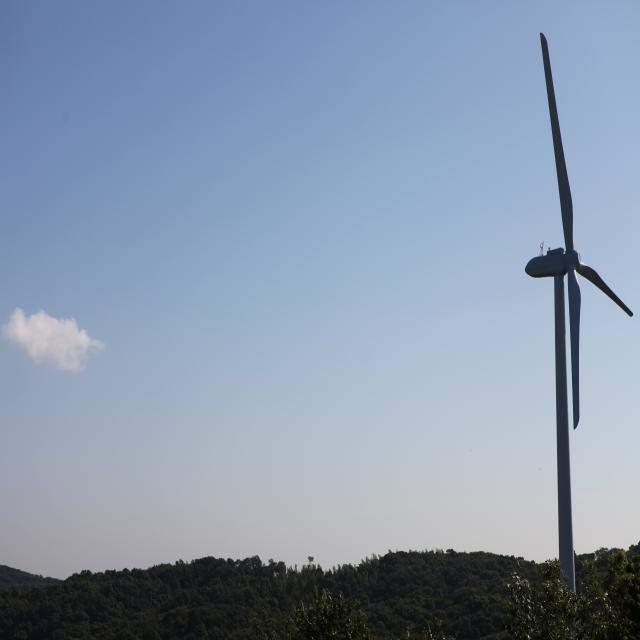bird: (469, 449, 474, 452), (539, 467, 541, 471)
